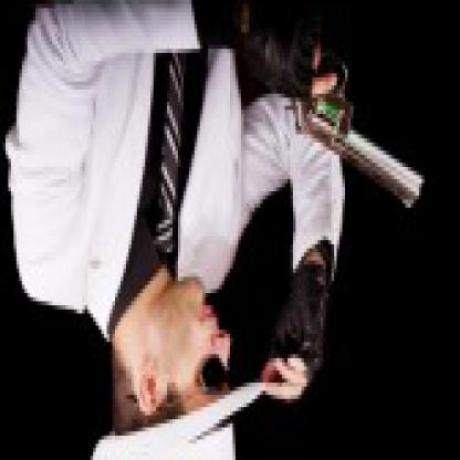1: (0, 0, 350, 460)
weapon: (296, 47, 424, 204)
